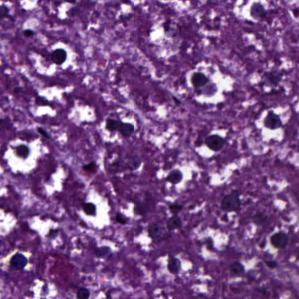inflammation: (105, 107, 135, 141), (8, 246, 30, 278), (204, 128, 228, 156), (219, 188, 243, 216), (262, 106, 286, 133), (48, 43, 68, 66), (271, 222, 290, 244), (13, 141, 31, 159)
